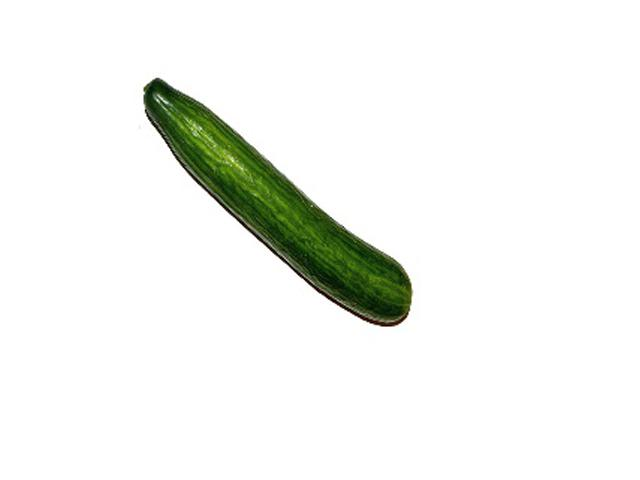cucumber: (143, 78, 412, 325)
